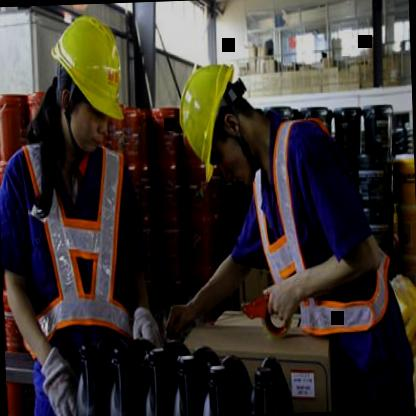helmet: (42, 3, 138, 154), (175, 48, 260, 178)
